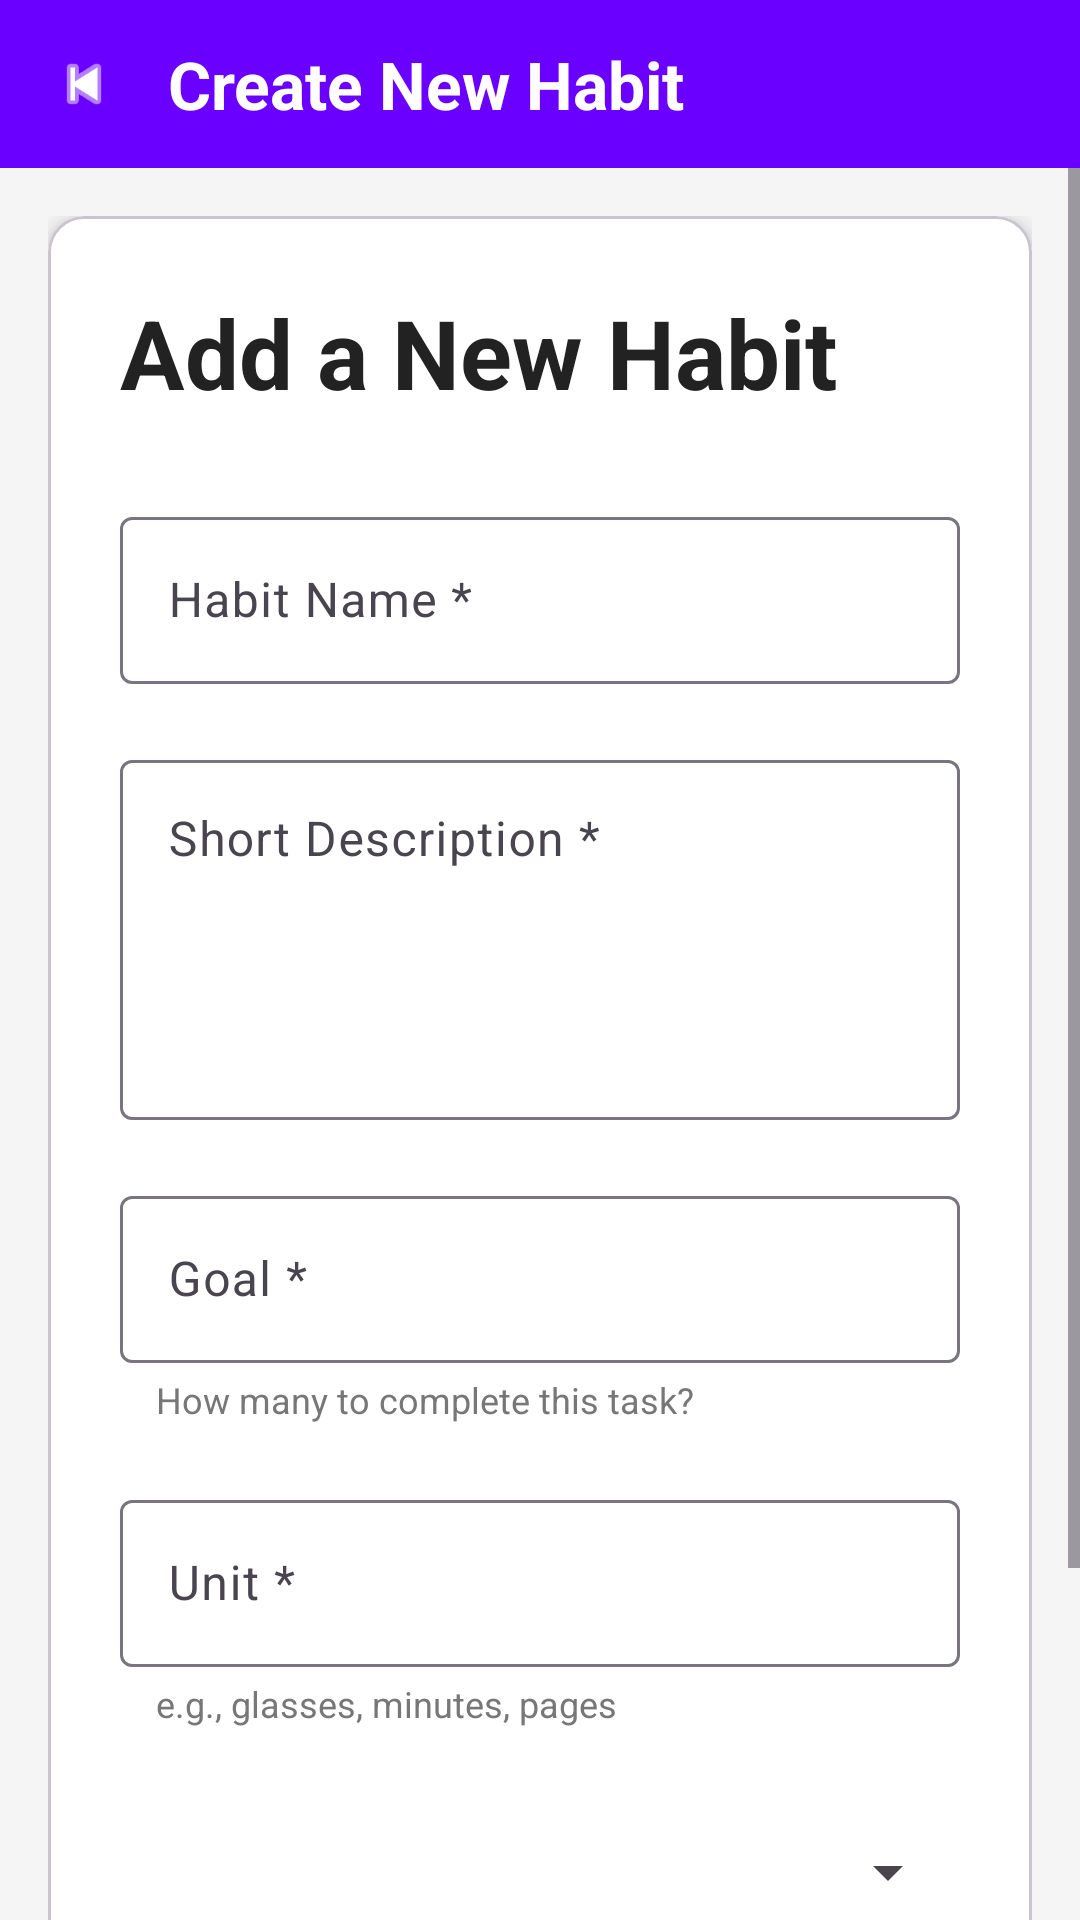

Where to tap for icons on this 1080px×1920px app screen, as [x,y]:
Back Button: [84,84]
